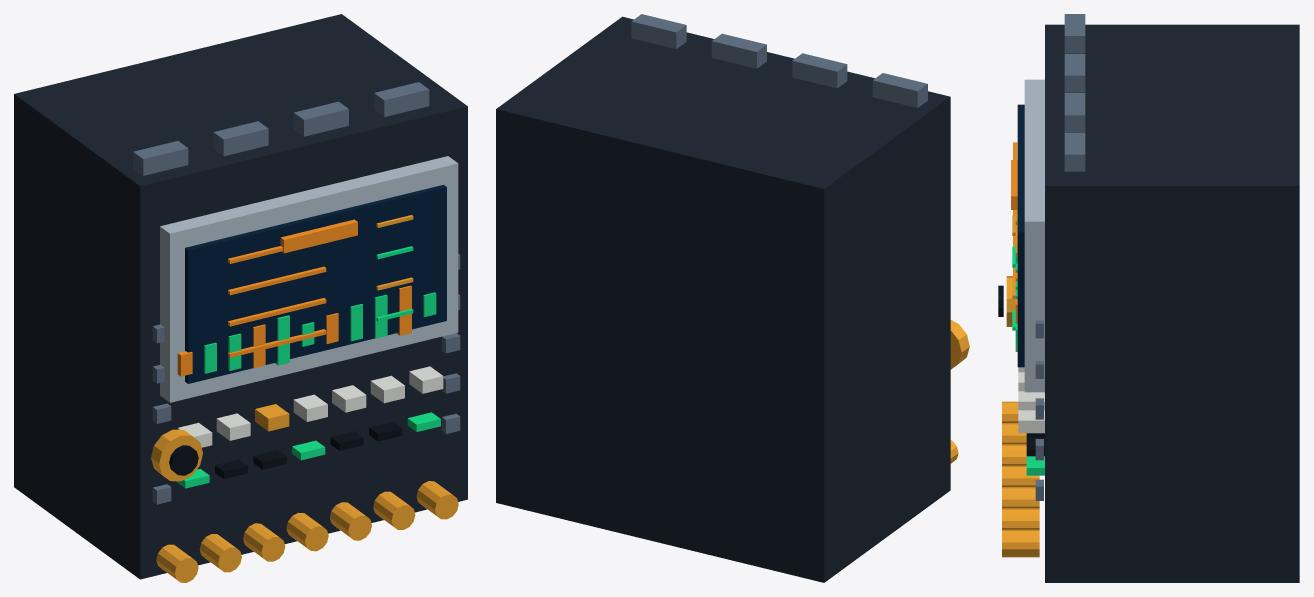
The model's file is 53_L87_BearingHousingTemperatureSensor.fbx.
3 renders of one model, left to right at view 1: azimuth 30°, elevation 25°; view 2: azimuth 150°, elevation 25°; view 3: azimuth 270°, elevation 25°, orthographic.
Visible parts, largest first — view 1: L87_BearingHousingTemperatureSensor, L87_BearingHousingTemperatureSensor_Part_0009, L87_BearingHousingTemperatureSensor_Part_0010, L87_BearingHousingTemperatureSensor_Part_0011, L87_BearingHousingTemperatureSensor_Part_0012, L87_BearingHousingTemperatureSensor_Part_0013; view 2: L87_BearingHousingTemperatureSensor, L87_BearingHousingTemperatureSensor_Part_0009, L87_BearingHousingTemperatureSensor_Part_0012; view 3: L87_BearingHousingTemperatureSensor, L87_BearingHousingTemperatureSensor_Part_0009, L87_BearingHousingTemperatureSensor_Part_0010.
Boxes of the visible parts, x1,y1,x2,y2 form: L87_BearingHousingTemperatureSensor: (14,14,467,582); L87_BearingHousingTemperatureSensor_Part_0009: (133,82,429,175); L87_BearingHousingTemperatureSensor_Part_0010: (177,219,411,376); L87_BearingHousingTemperatureSensor_Part_0011: (204,292,436,373); L87_BearingHousingTemperatureSensor_Part_0012: (151,429,202,481); L87_BearingHousingTemperatureSensor_Part_0013: (169,445,198,475); L87_BearingHousingTemperatureSensor: (496,16,958,582); L87_BearingHousingTemperatureSensor_Part_0009: (631,14,927,107); L87_BearingHousingTemperatureSensor_Part_0012: (950,320,969,369); L87_BearingHousingTemperatureSensor: (1002,24,1299,582); L87_BearingHousingTemperatureSensor_Part_0009: (1064,14,1085,171); L87_BearingHousingTemperatureSensor_Part_0010: (1011,160,1017,351).
Size of the model in its own units: 96.95 by 116 by 76.5.
